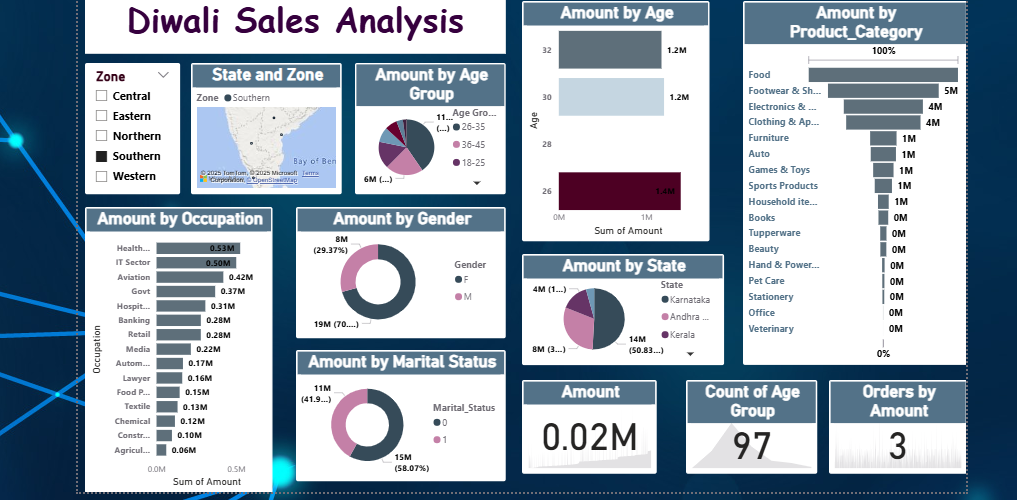

Layout of this report page (visuals, bound fields, positions):
{"tool":"powerbi","page":{"name":"Page 1","canvas":[1280,720],"ordinal":0},"visuals":[{"type":"textbox","box":[10.1,0,606.2,89.3],"z":0},{"type":"funnel","title":"Amount by Product_Category","fields":{"Category":["Diwali Sales Data.Product_Category"],"Y":["Sum(Diwali Sales Data.Amount)"]},"box":[957.6,13,322.6,524.2],"z":1000},{"type":"slicer","fields":{"Values":["Diwali Sales Data.Zone"]},"box":[10.1,102.2,136.8,188.6],"z":2000},{"type":"barChart","title":" Amount by Age","fields":{"Category":["Diwali Sales Data.Age"],"Y":["Sum(Diwali Sales Data.Amount)"]},"box":[640,13.4,270.4,346],"z":3000},{"type":"barChart","title":"Amount by Occupation","fields":{"Y":["Sum(Diwali Sales Data.Amount)"],"Category":["Diwali Sales Data.Occupation"]},"box":[10.1,309.1,270.4,411.5],"z":4000},{"type":"pieChart","title":" Amount by Age Group","fields":{"Category":["Diwali Sales Data.Age Group"],"Y":["Sum(Diwali Sales Data.Amount)"]},"box":[398.9,102.2,217.4,188.6],"z":5000},{"type":"donutChart","title":" Amount by Gender","fields":{"Y":["Sum(Diwali Sales Data.Amount)"],"Category":["Diwali Sales Data.Gender"]},"box":[313.9,309.6,302.4,188.6],"z":6000},{"type":"donutChart","title":" Amount by Marital Status","fields":{"Y":["Sum(Diwali Sales Data.Amount)"],"Category":["Diwali Sales Data.Marital_Status"]},"box":[313.9,515.5,302.4,188.6],"z":7000},{"type":"pieChart","title":" Amount by State","fields":{"Category":["Diwali Sales Data.State"],"Y":["Sum(Diwali Sales Data.Amount)"]},"box":[639.4,377.3,290.9,159.8],"z":8000},{"type":"kpi","title":" Amount","fields":{"Indicator":["Sum(Diwali Sales Data.Amount)"],"TrendLine":["Diwali Sales Data.Amount"]},"box":[639.4,558.7,194.4,135.4],"z":9000},{"type":"kpi","title":"Count of Age Group","fields":{"TrendLine":["Diwali Sales Data.Age Group"],"Indicator":["CountNonNull(Diwali Sales Data.Age Group)"]},"box":[875.5,558.7,188.6,135.4],"z":10000},{"type":"kpi","title":"Orders by Amount","fields":{"Indicator":["Sum(Diwali Sales Data.Orders)"],"TrendLine":["Diwali Sales Data.Amount"]},"box":[1081.4,558.7,198.7,135.4],"z":11000},{"type":"map","fields":{"Category":["Diwali Sales Data.State"],"Series":["Diwali Sales Data.Zone"]},"box":[162.7,102.2,217.4,188.6],"z":12000}]}

Visuals, with their boxes in screenshot pixels (x1, y1, x2, y2):
textbox: rect(86, 0, 502, 56)
"Amount by Product_Category" funnel: rect(736, 4, 957, 363)
slicer - Diwali Sales Data.Zone: rect(86, 65, 180, 194)
" Amount by Age" barChart: rect(518, 4, 704, 241)
"Amount by Occupation" barChart: rect(86, 207, 272, 489)
" Amount by Age Group" pieChart: rect(353, 65, 502, 194)
" Amount by Gender" donutChart: rect(295, 207, 502, 336)
" Amount by Marital Status" donutChart: rect(295, 348, 502, 477)
" Amount by State" pieChart: rect(518, 253, 717, 363)
" Amount" kpi: rect(518, 378, 651, 471)
"Count of Age Group" kpi: rect(680, 378, 809, 471)
"Orders by Amount" kpi: rect(821, 378, 957, 471)
map - Diwali Sales Data.State x Diwali Sales Data.Zone: rect(191, 65, 340, 194)
